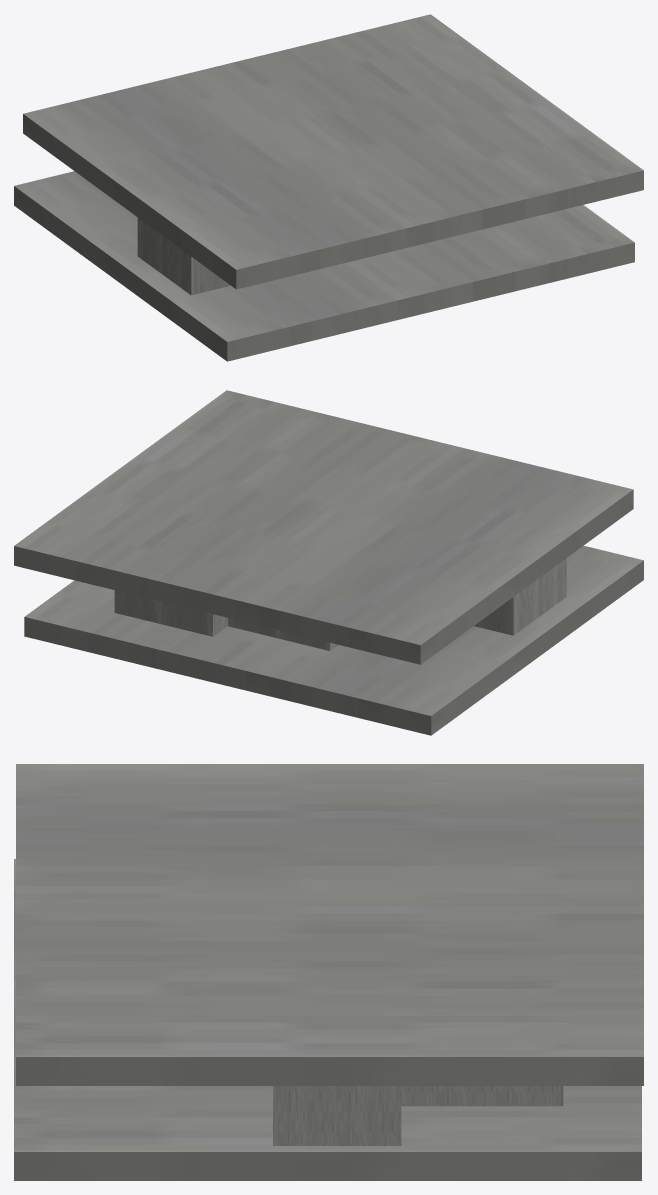
File: heheehhe new.fbx
3 views of the same model, one above another, from view 1: azimuth 30°, elevation 25°; view 2: azimuth 150°, elevation 25°; view 3: azimuth 270°, elevation 25° (orthographic). The views are drawn at different scales.
Parts seen in each view (by area): view 1: Cube.039, Cube.012, Cube.007, Cube.025; view 2: Cube.039, Cube.012, Cube.054, Cube.007, Cube.037, Cube.024; view 3: Cube.039, Cube.012, Cube.057, Cube.055.
Boxes of the visible parts, <box> form: Cube.039: <box>23,14,643,289</box>; Cube.012: <box>14,171,634,361</box>; Cube.007: <box>137,217,193,295</box>; Cube.025: <box>193,258,230,294</box>; Cube.039: <box>14,390,633,664</box>; Cube.012: <box>24,545,643,735</box>; Cube.054: <box>114,590,210,636</box>; Cube.007: <box>512,558,566,635</box>; Cube.037: <box>228,618,327,650</box>; Cube.024: <box>474,598,511,635</box>; Cube.039: <box>16,764,643,1085</box>; Cube.012: <box>14,859,641,1180</box>; Cube.057: <box>273,1086,401,1145</box>; Cube.055: <box>401,1086,560,1106</box>.
Size of the model in its own units: 4083 by 831 by 3625.
Materials: 36 (21 with a texture image).
